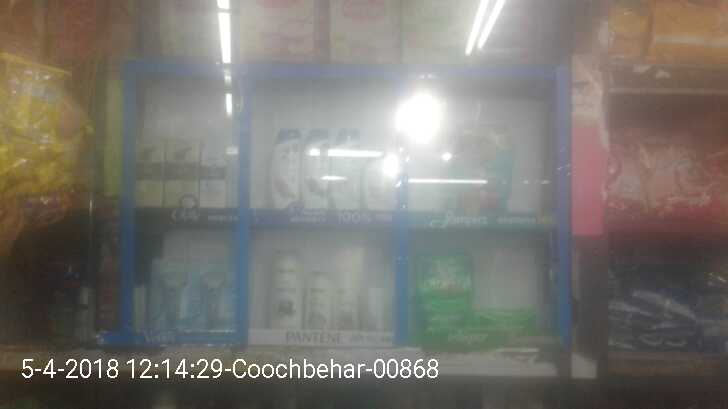venus: (147, 259, 194, 328), (195, 258, 235, 328)
